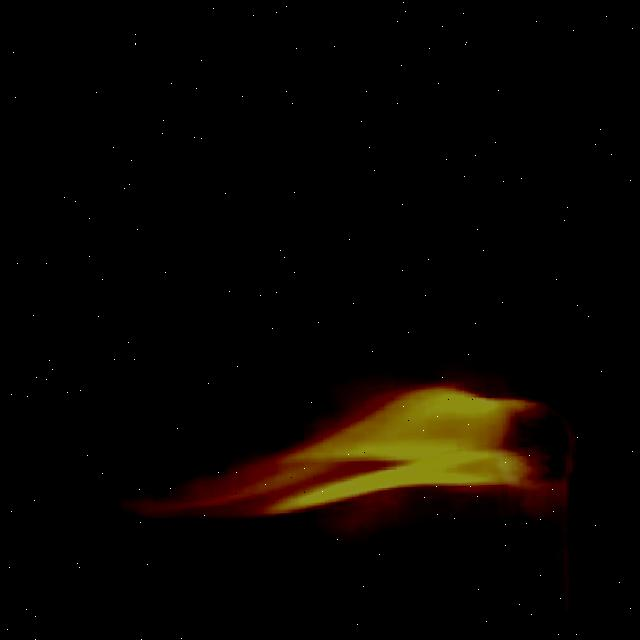Fire: (180, 378, 581, 523)
